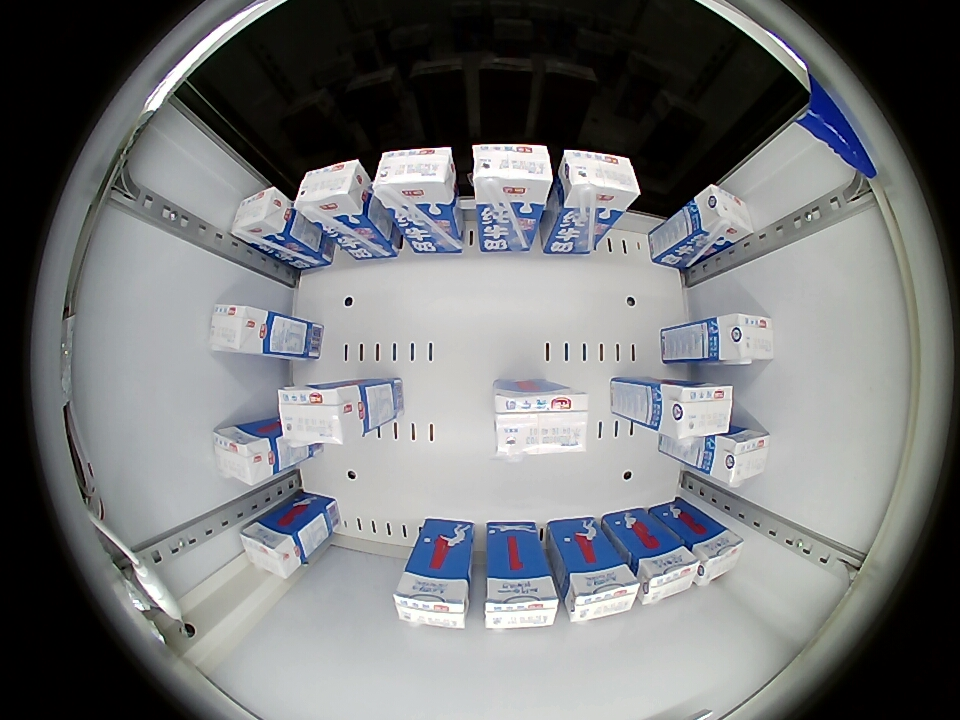niunai: (493, 382, 589, 457), (277, 382, 366, 448), (372, 147, 457, 215), (558, 150, 640, 217), (472, 144, 553, 211), (294, 159, 371, 226), (393, 567, 471, 629), (562, 563, 640, 624), (656, 382, 734, 442), (485, 572, 560, 630), (240, 517, 307, 579), (636, 544, 700, 608), (212, 423, 275, 486), (693, 183, 754, 246), (231, 186, 292, 247), (710, 426, 771, 486), (689, 525, 745, 586), (208, 302, 270, 356), (711, 313, 774, 365)
